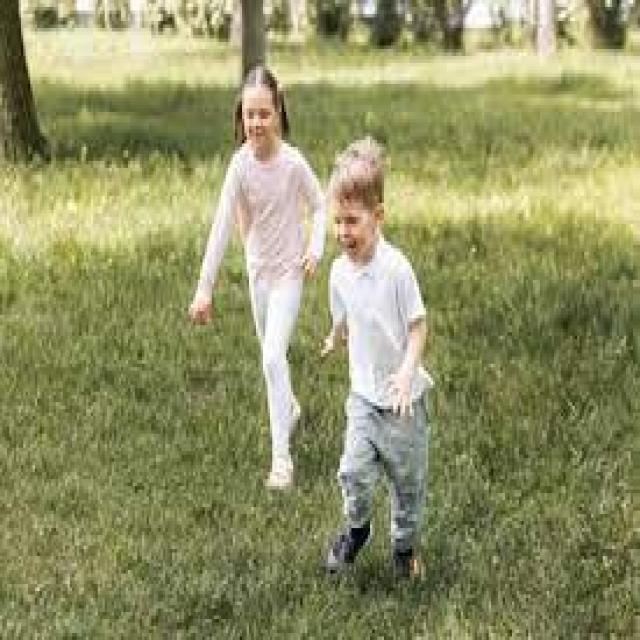Person: (189, 65, 325, 487), (326, 137, 436, 566)
